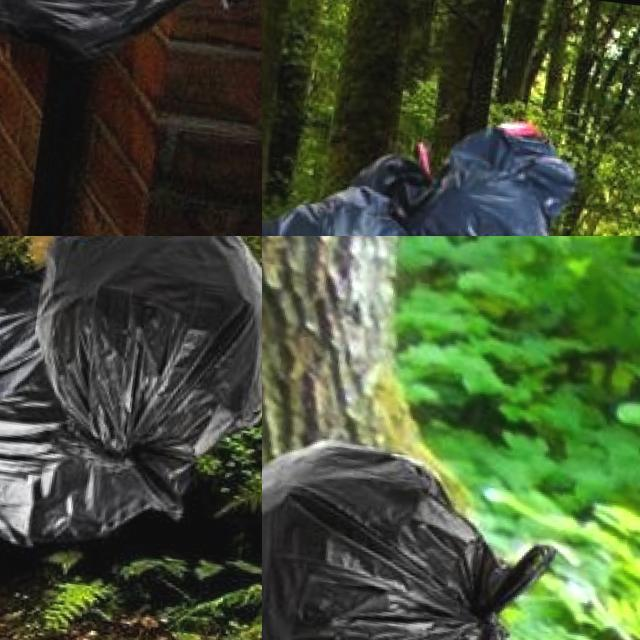waste: (0, 275, 220, 563), (262, 424, 544, 640), (28, 236, 262, 450), (0, 0, 259, 86), (411, 118, 582, 236), (262, 167, 418, 236)
